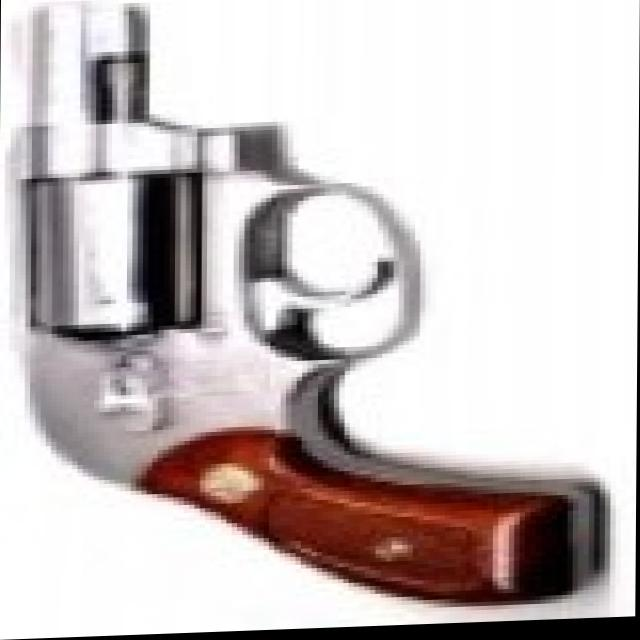handgun: (0, 0, 608, 620)
